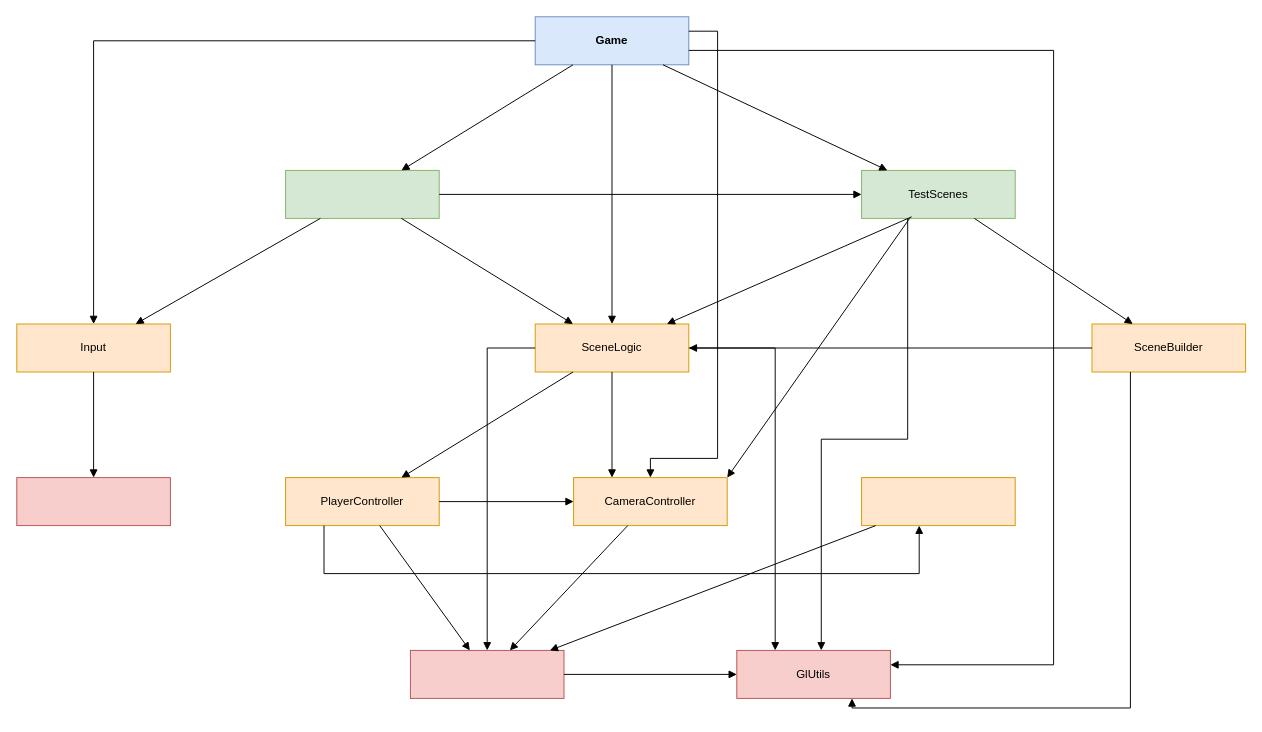
This 1262x732 diagram has some shape labels left out. The centre of each missing label's shape, as x and y in pixels:
"Containers" goes at pixel 93 501.
"GameLogic" goes at pixel 362 193.
"Physics" goes at pixel 938 501.
"SceneTypes" goes at pixel 486 673.
